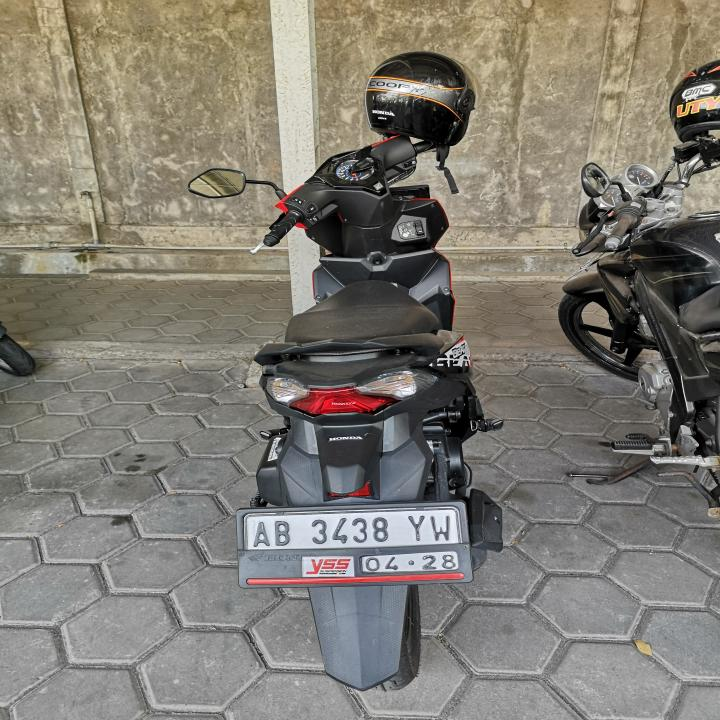plate: (242, 504, 465, 574)
